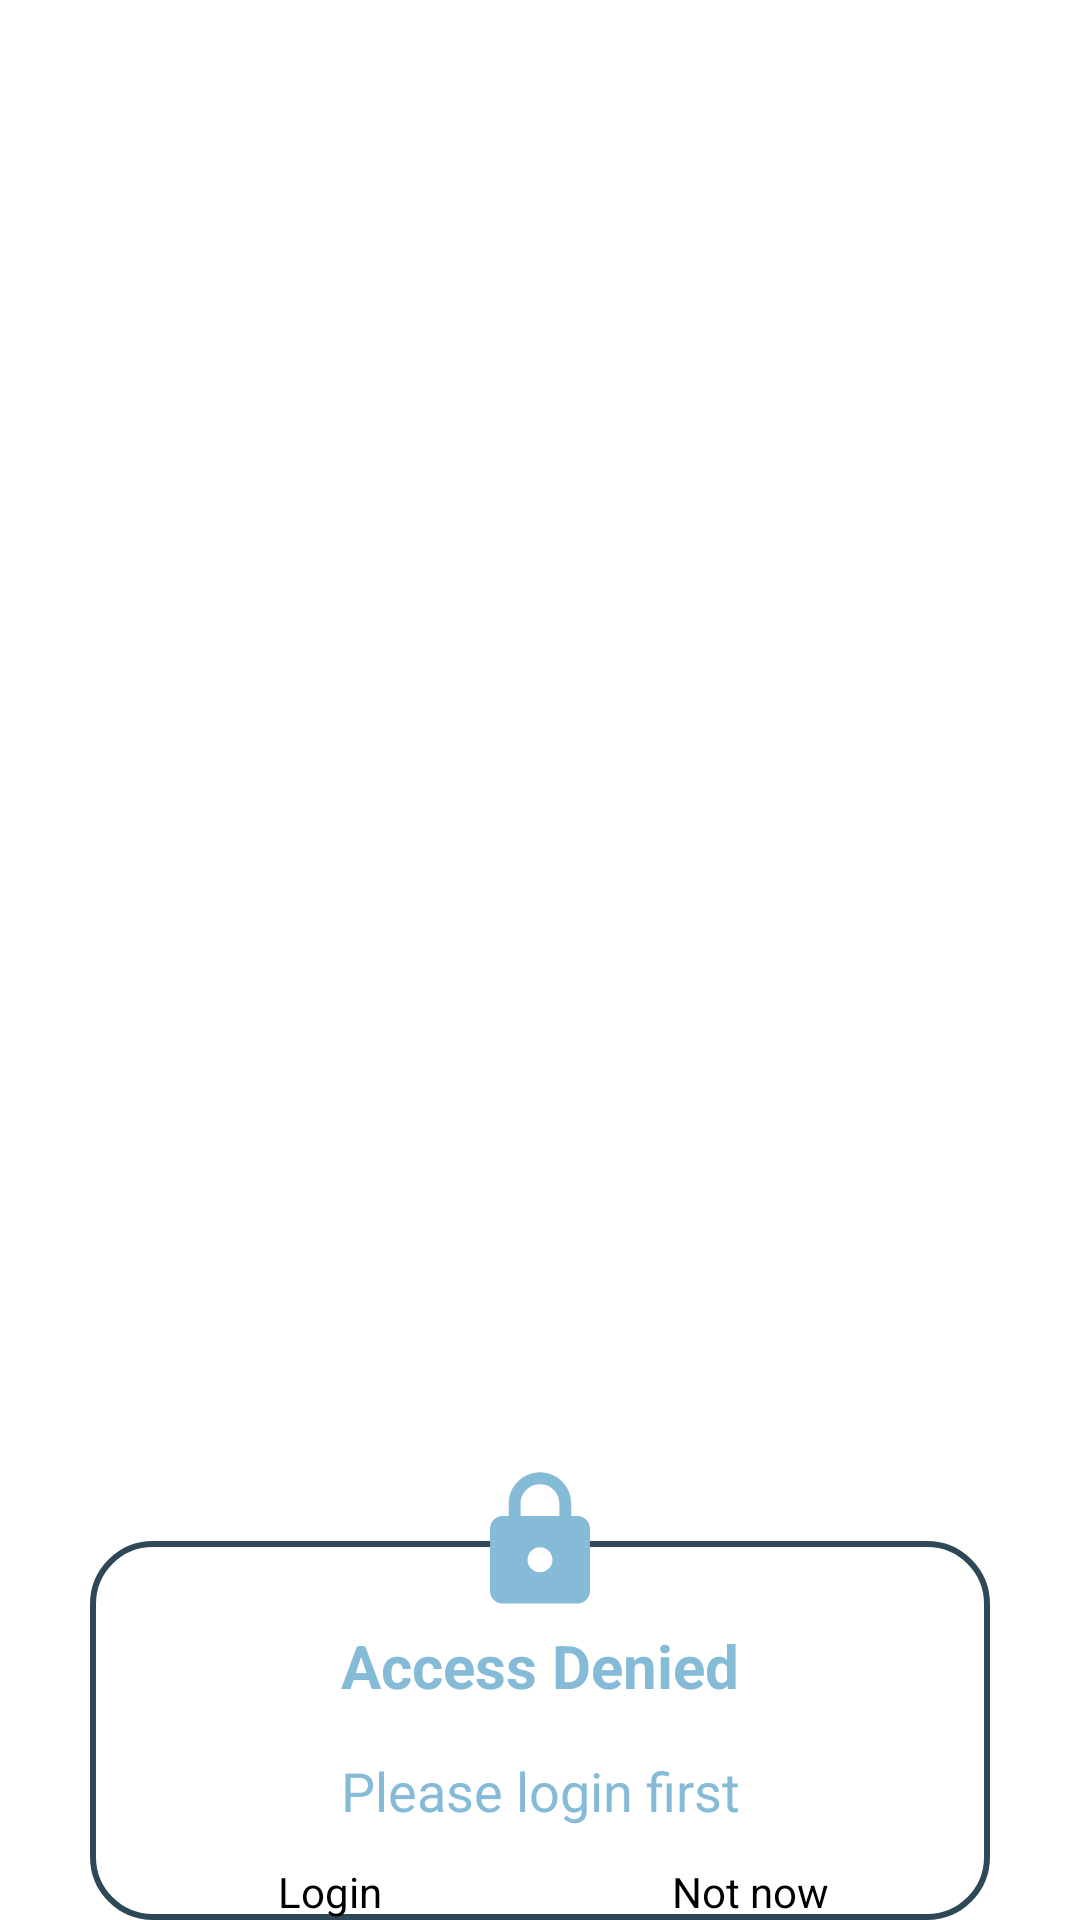

Point at icon controls on the screen. Image size 1080 x 1920, points as (x=x, y=y).
lock: (x=540, y=1538)
